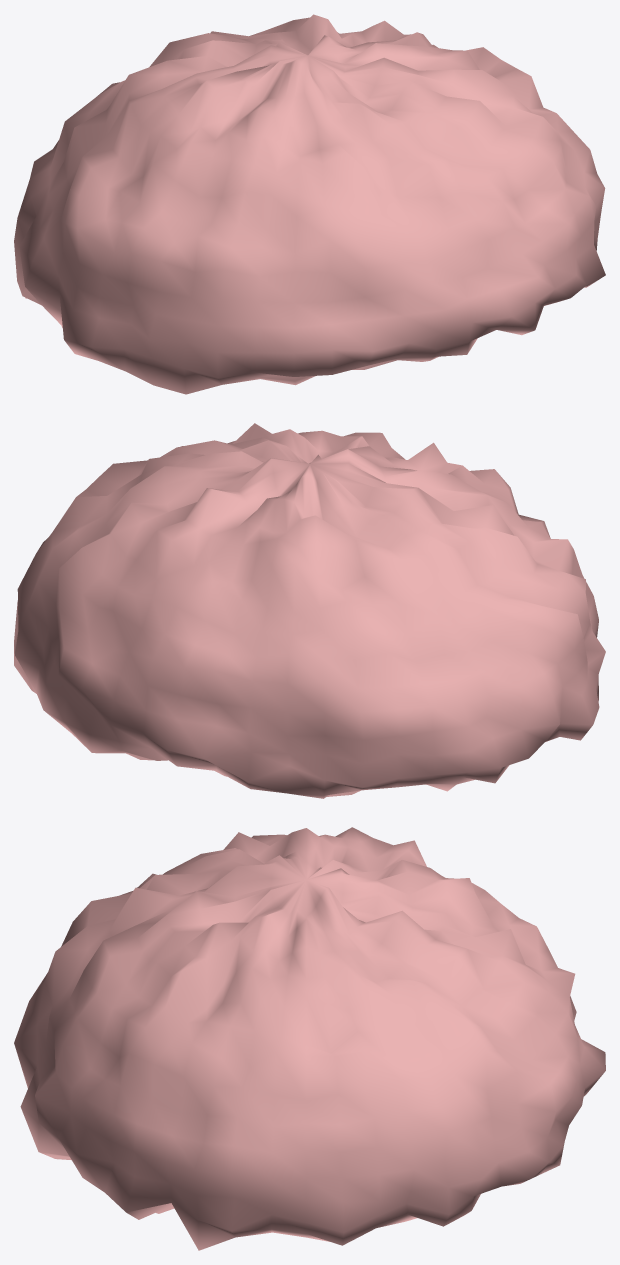
The model's file is Minced_Portion.fbx.
3 views of the same model, one above another, from view 1: azimuth 30°, elevation 25°; view 2: azimuth 150°, elevation 25°; view 3: azimuth 270°, elevation 25° (orthographic). The views are drawn at different scales.
Visible parts, largest first — view 1: Minced_Portion; view 2: Minced_Portion; view 3: Minced_Portion.
Part boxes in pixels (bbox=[...]): Minced_Portion: bbox=[14, 14, 605, 394]; Minced_Portion: bbox=[14, 423, 605, 798]; Minced_Portion: bbox=[14, 827, 605, 1250].
Size of the model in its own units: 0.046 by 0.0211 by 0.0424.
